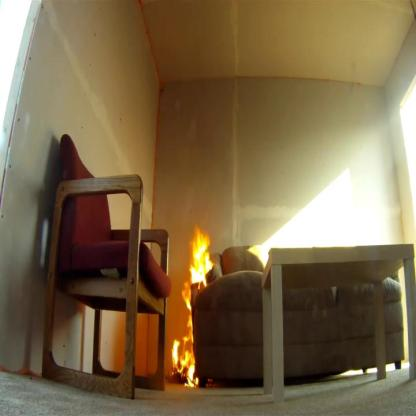fire: (171, 226, 214, 392)
